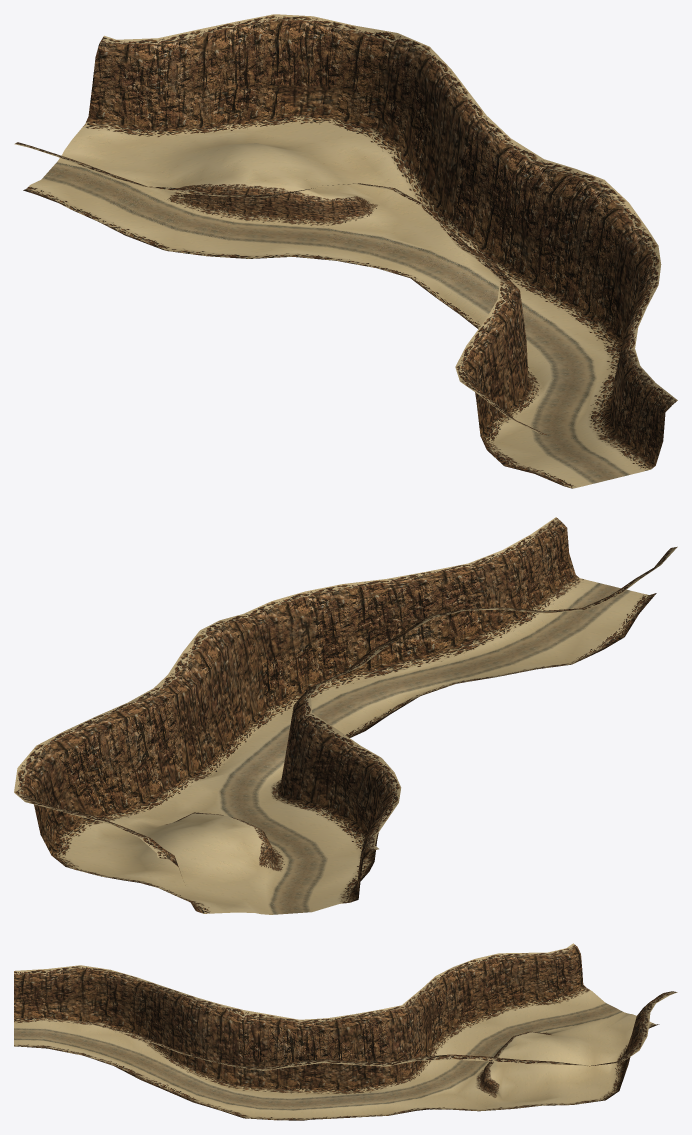
File: Mission8_Zone01A.glb
The picture shows the model from 3 angles, top to bottom: view 1: azimuth 30°, elevation 25°; view 2: azimuth 150°, elevation 25°; view 3: azimuth 270°, elevation 25°; orthographic projection. The views are drawn at different scales.
Visible parts, largest first — view 1: MISSION8_ZONE01A134, MISSION8_ZONE01A130, MISSION8_ZONE01A135, MISSION8_ZONE01A136, MISSION8_ZONE01A059, MISSION8_ZONE01A054, MISSION8_ZONE01A065, MISSION8_ZONE01A073, MISSION8_ZONE01A049, MISSION8_ZONE01A137, MISSION8_ZONE01A044, MISSION8_ZONE01A082 (+69 smaller); view 2: MISSION8_ZONE01A034, MISSION8_ZONE01A028, MISSION8_ZONE01A017, MISSION8_ZONE01A082, MISSION8_ZONE01A011, MISSION8_ZONE01A039, MISSION8_ZONE01A022, MISSION8_ZONE01A069, MISSION8_ZONE01A059, MISSION8_ZONE01A073, MISSION8_ZONE01A091, MISSION8_ZONE01A007 (+65 smaller); view 3: MISSION8_ZONE01A052, MISSION8_ZONE01A057, MISSION8_ZONE01A031, MISSION8_ZONE01A047, MISSION8_ZONE01A036, MISSION8_ZONE01A004, MISSION8_ZONE01A084, MISSION8_ZONE01A008, MISSION8_ZONE01A076, MISSION8_ZONE01A, MISSION8_ZONE01A094, MISSION8_ZONE01A042 (+74 smaller).
Boxes of the visible parts, <box> form: MISSION8_ZONE01A134: <box>111,45,191,138</box>; MISSION8_ZONE01A130: <box>296,23,381,125</box>; MISSION8_ZONE01A135: <box>153,30,229,125</box>; MISSION8_ZONE01A136: <box>193,21,268,121</box>; MISSION8_ZONE01A059: <box>486,162,560,297</box>; MISSION8_ZONE01A054: <box>516,191,588,312</box>; MISSION8_ZONE01A065: <box>467,141,527,268</box>; MISSION8_ZONE01A073: <box>440,116,498,244</box>; MISSION8_ZONE01A049: <box>529,212,611,328</box>; MISSION8_ZONE01A137: <box>232,14,307,85</box>; MISSION8_ZONE01A044: <box>557,234,628,344</box>; MISSION8_ZONE01A082: <box>421,95,474,227</box>; MISSION8_ZONE01A034: <box>277,590,357,685</box>; MISSION8_ZONE01A028: <box>346,579,408,681</box>; MISSION8_ZONE01A017: <box>429,563,480,653</box>; MISSION8_ZONE01A082: <box>109,702,174,811</box>; MISSION8_ZONE01A011: <box>473,550,531,640</box>; MISSION8_ZONE01A039: <box>256,607,328,713</box>; MISSION8_ZONE01A022: <box>392,574,458,670</box>; MISSION8_ZONE01A069: <box>287,716,360,811</box>; MISSION8_ZONE01A059: <box>180,677,245,775</box>; MISSION8_ZONE01A073: <box>139,691,196,797</box>; MISSION8_ZONE01A091: <box>87,710,149,820</box>; MISSION8_ZONE01A007: <box>503,534,553,621</box>; MISSION8_ZONE01A052: <box>301,1017,360,1095</box>; MISSION8_ZONE01A057: <box>331,1020,392,1093</box>; MISSION8_ZONE01A031: <box>185,1001,242,1086</box>; MISSION8_ZONE01A047: <box>269,1023,330,1098</box>; MISSION8_ZONE01A036: <box>211,1007,270,1086</box>; MISSION8_ZONE01A004: <box>44,965,80,1024</box>; MISSION8_ZONE01A084: <box>459,953,508,1018</box>; MISSION8_ZONE01A008: <box>73,965,110,1026</box>; MISSION8_ZONE01A076: <box>436,967,485,1036</box>; MISSION8_ZONE01A: <box>14,969,47,1021</box>; MISSION8_ZONE01A094: <box>501,956,537,1018</box>; MISSION8_ZONE01A042: <box>239,1026,299,1098</box>.
Bounding box in the file's own units: 78.75 × 21.15 × 174.
Materials: 11 (11 with a texture image).
